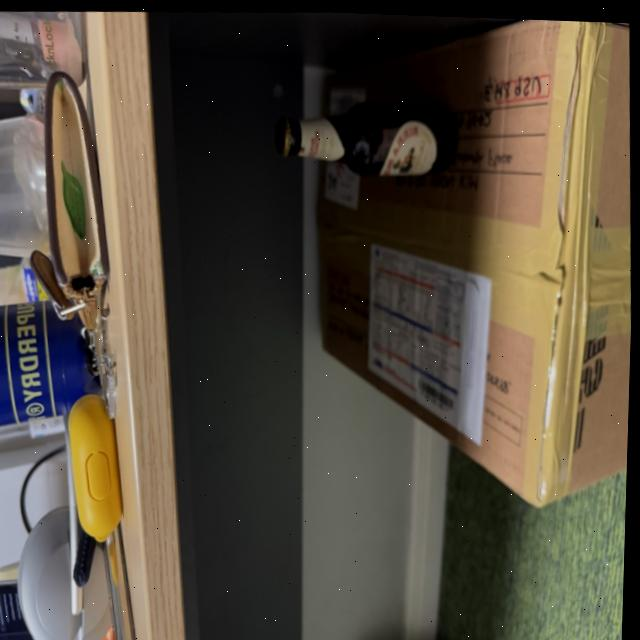beer: (270, 91, 462, 187)
